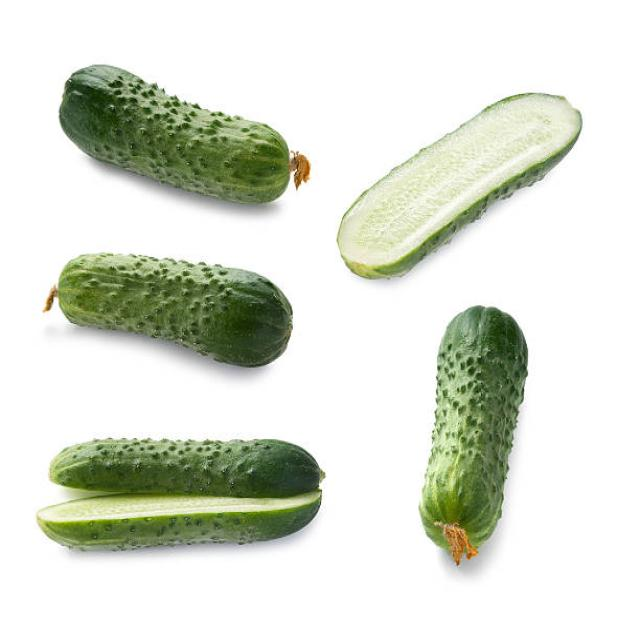cucumber: (338, 89, 581, 277), (59, 60, 290, 206), (39, 440, 324, 552), (58, 251, 294, 368), (422, 304, 528, 548)
